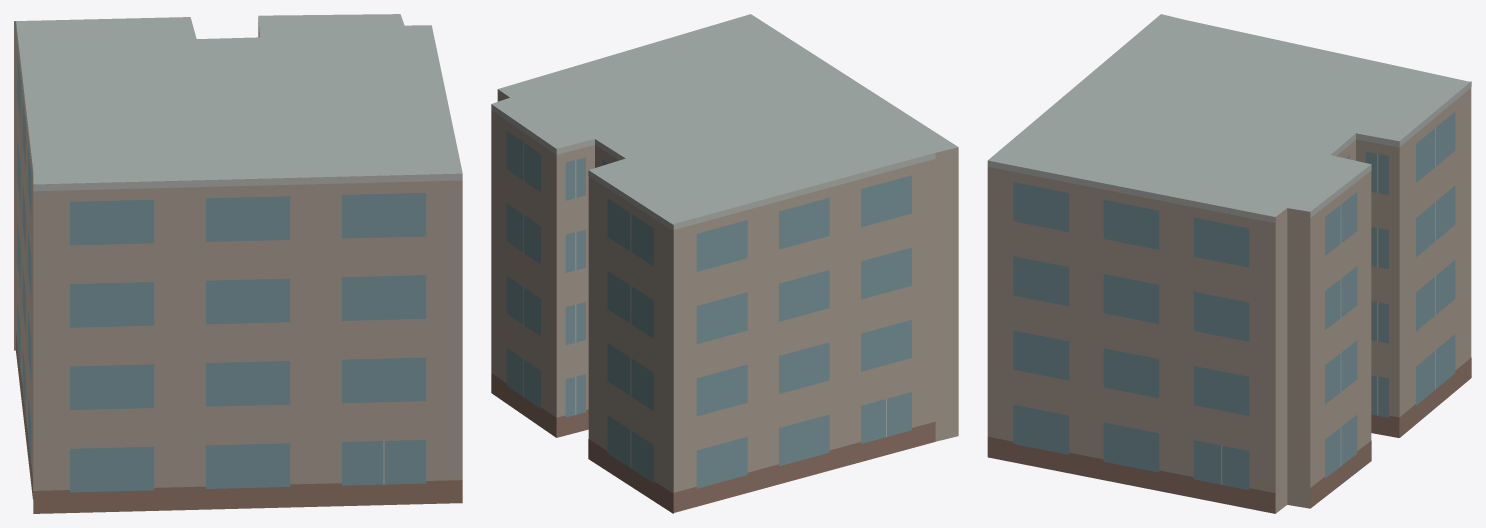
The model's file is survey-upis-32968406.glb.
3 views of the same model, side by side, from view 1: azimuth 30°, elevation 25°; view 2: azimuth 150°, elevation 25°; view 3: azimuth 270°, elevation 25° (orthographic). The views are drawn at different scales.
Parts seen in each view (by area): view 1: survey-upis-32968406.tmp; view 2: survey-upis-32968406.tmp; view 3: survey-upis-32968406.tmp.
Boxes of the visible parts, box(x1,y1,x2,y2) form: survey-upis-32968406.tmp: box(14, 14, 462, 513); survey-upis-32968406.tmp: box(491, 14, 958, 513); survey-upis-32968406.tmp: box(987, 14, 1471, 513).
Size of the model in its own units: 17.25 by 11.75 by 17.37.
